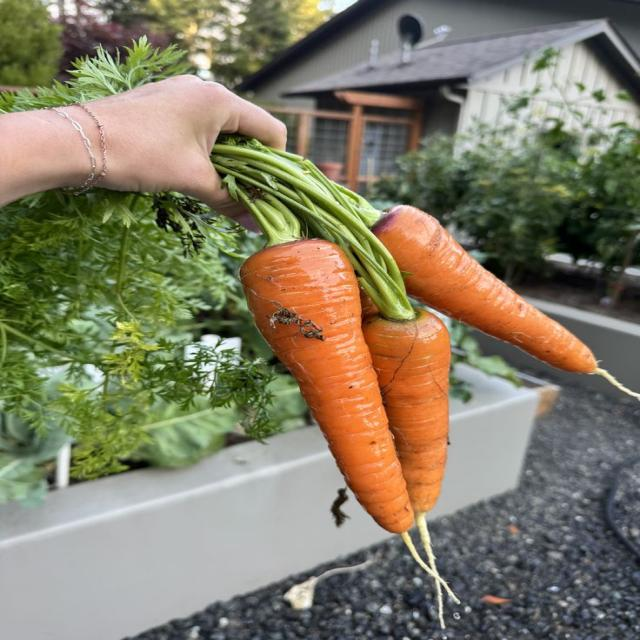carrot: (240, 240, 458, 602), (372, 206, 639, 397), (240, 240, 413, 533), (363, 310, 450, 574), (363, 310, 450, 512)
